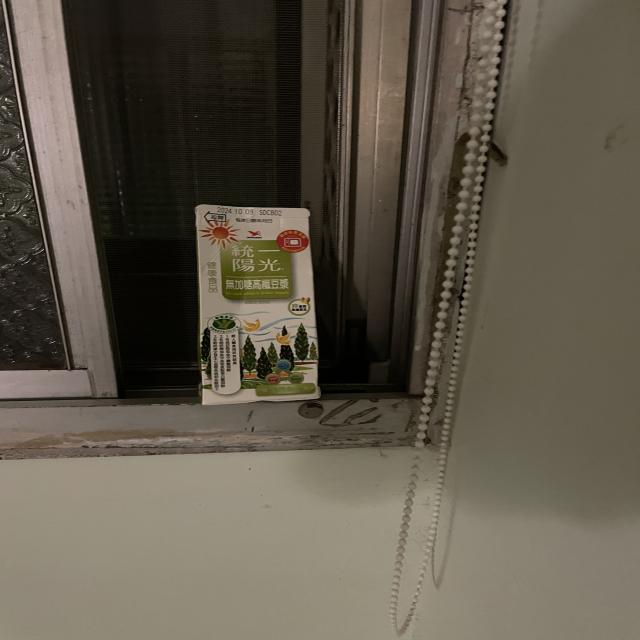TongYi_UnsweetenedHighFiberSoyMilk: (193, 202, 325, 407)
